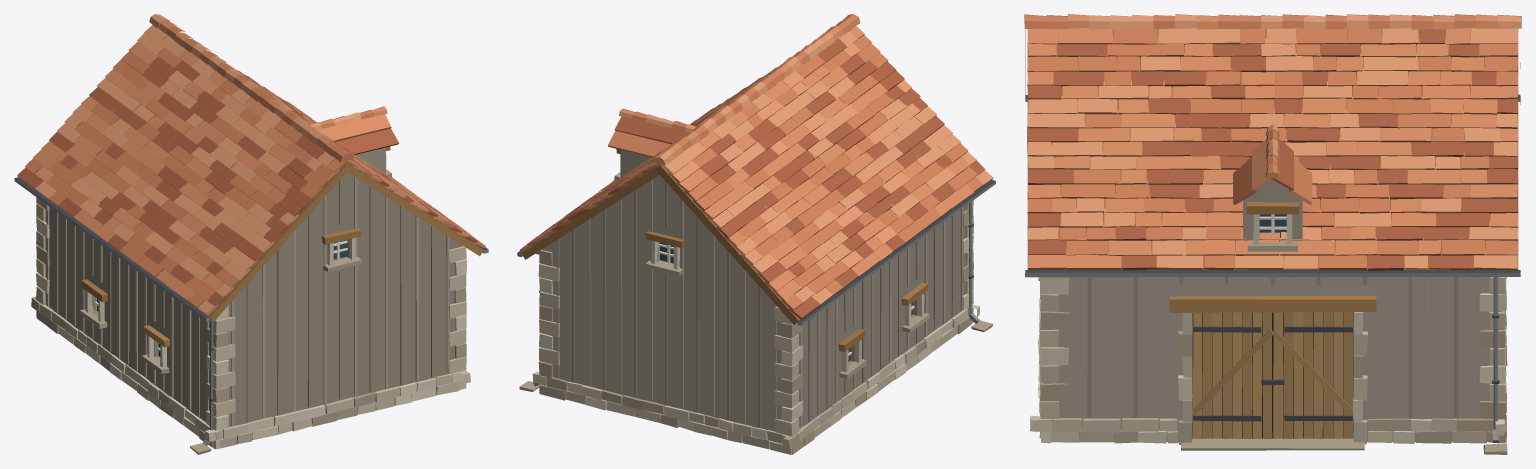
File: grange.glb
3 views of the same model, side by side, from view 1: azimuth 30°, elevation 25°; view 2: azimuth 150°, elevation 25°; view 3: azimuth 270°, elevation 25° (orthographic). The views are drawn at different scales.
Visible parts, largest first — view 1: grange; view 2: grange; view 3: grange.
Part boxes in pixels (x1=…): grange: x1=14, y1=14, x2=488, y2=454; grange: x1=517, y1=14, x2=995, y2=454; grange: x1=1024, y1=14, x2=1521, y2=454.
Size of the model in its own units: 9.36 by 8.44 by 10.84.
